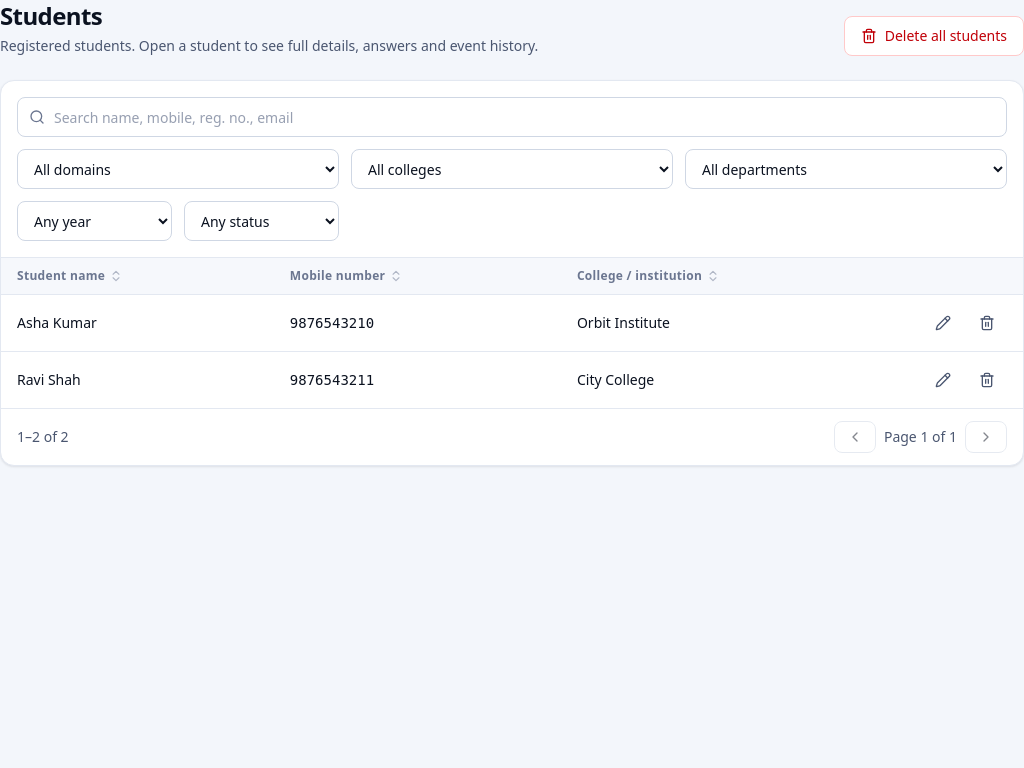
StudentsPage › deletes one student after a confirmation that names them
The image size is (1024, 768).
Click the button named "Delete Asha Kumar" at (987, 323), box [967, 307, 1007, 339]
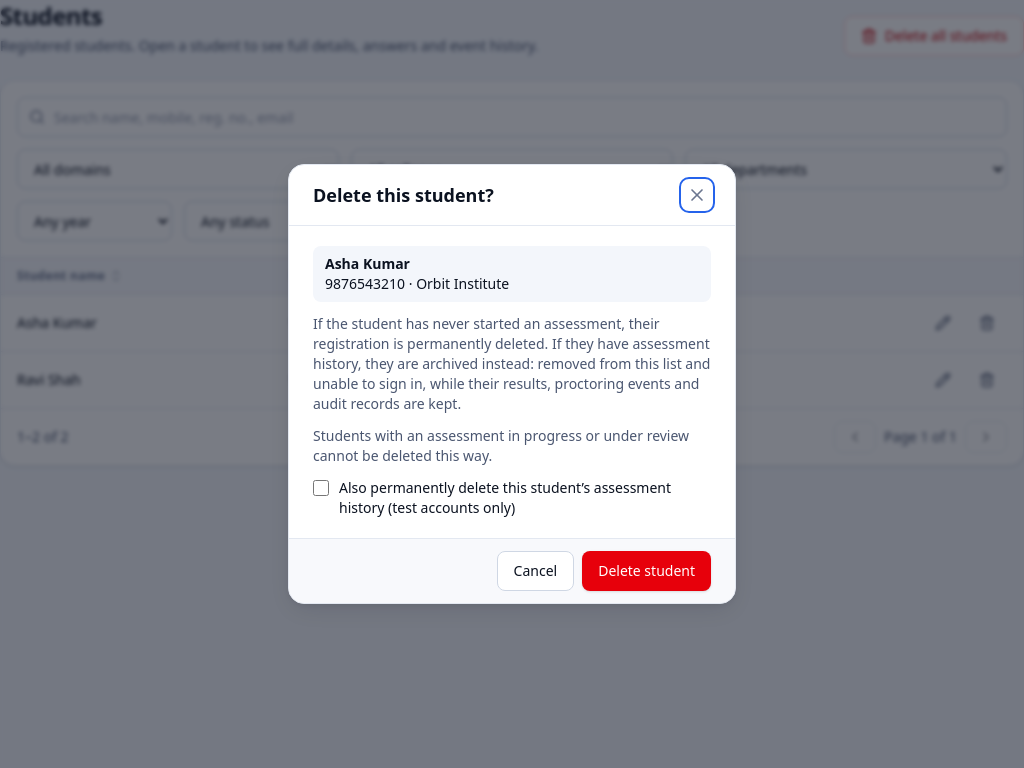
expect the text "Asha Kumar" is shown: met, box [325, 254, 410, 273]
expect the text "Asha Kumar9876543210 · Orbit Institute" is shown: met, box [313, 246, 711, 302]
Click the button "Delete student" at (647, 571), box [582, 551, 711, 591]
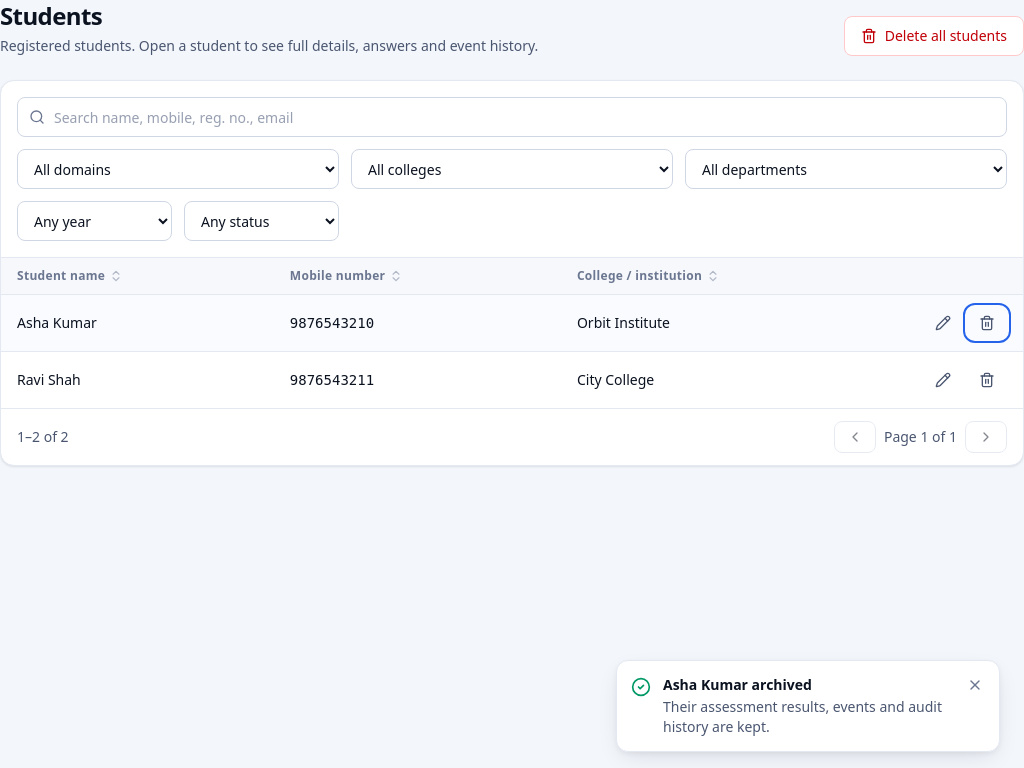
expect the text "Asha Kumar archived" is shown: met, box [663, 675, 812, 694]
